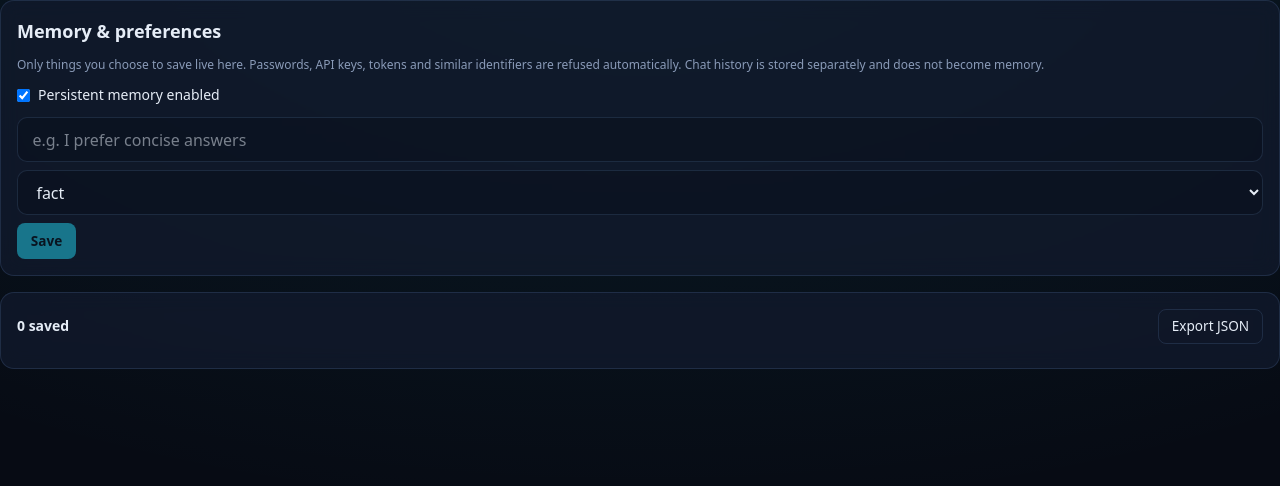
Memory page › can disable persistent memory and warns about it
The image size is (1280, 486).
Step 1. Click the checkbox labelled "Persistent memory enabled" → (24, 95), box [17, 88, 30, 102]
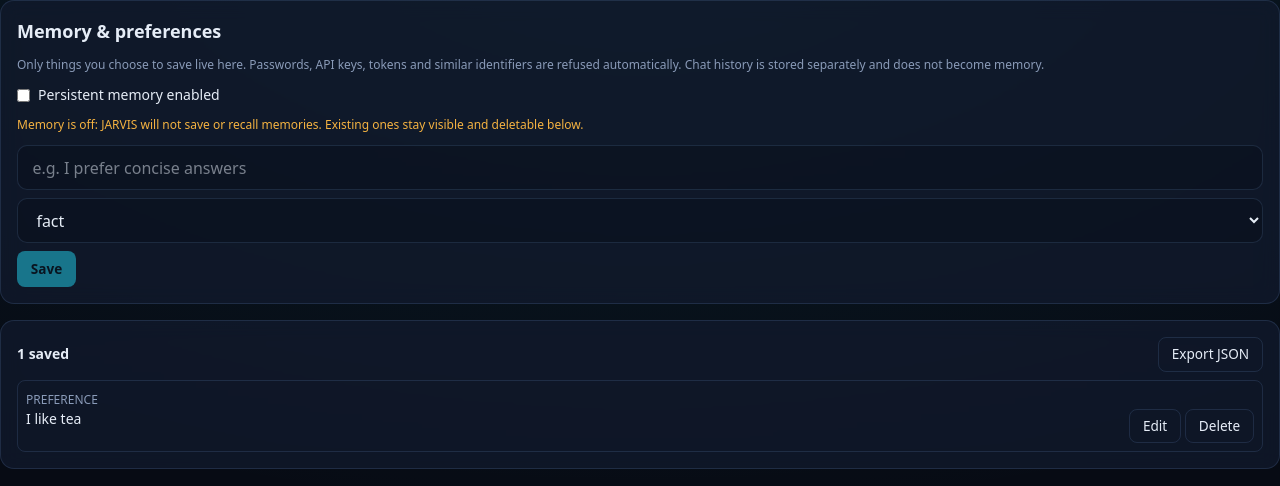
Result: the text "Memory is off" is shown at [17, 116, 584, 133]
